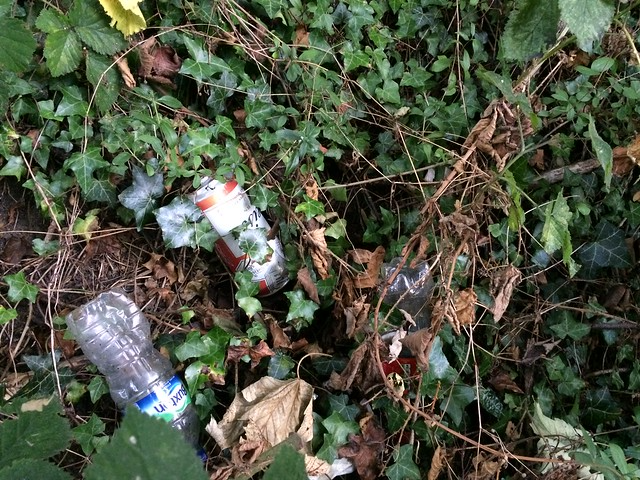bottle: (65, 293, 212, 465)
can: (185, 167, 295, 296)
